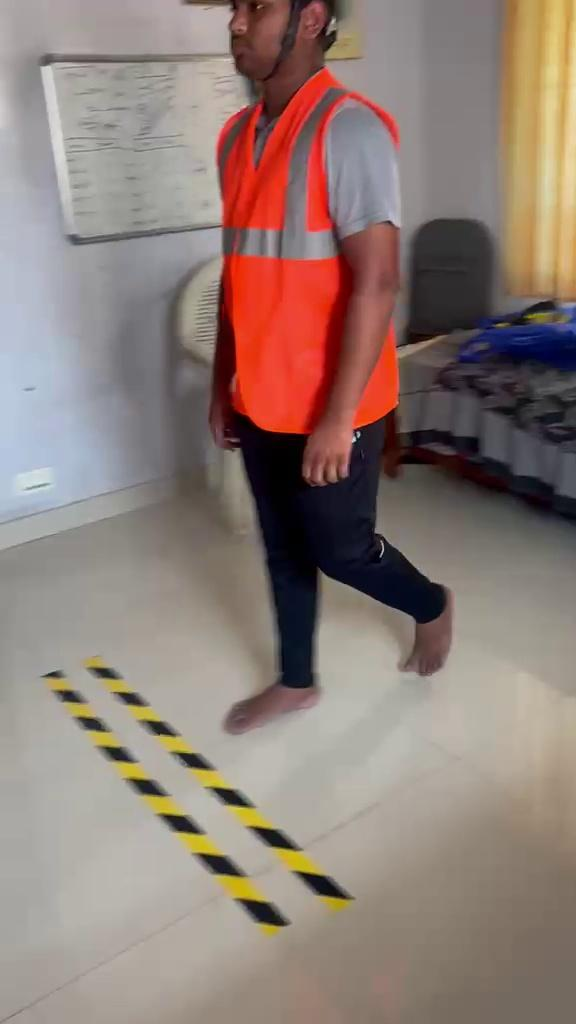BorderLine: (40, 654, 355, 938)
Helmet: (228, 0, 338, 84)
Person: (207, 0, 454, 735)
Vest: (216, 68, 400, 434)
